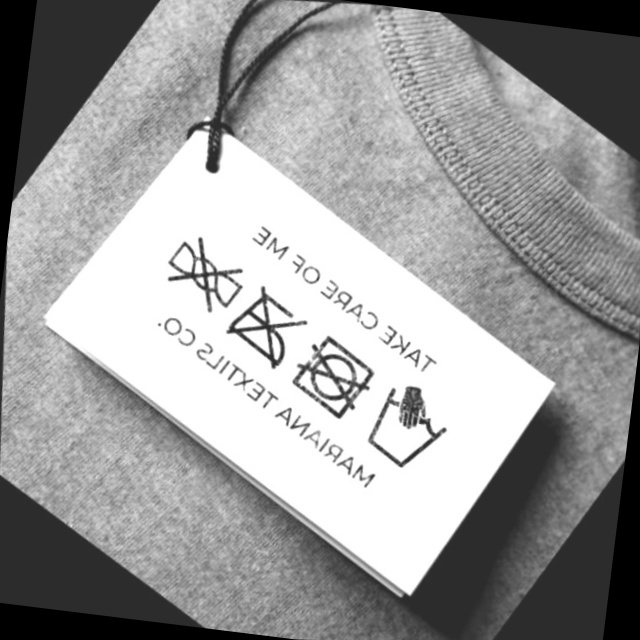DN_iron: (223, 280, 311, 374)
DN_tumble_dry: (290, 328, 384, 422)
DN_wring: (159, 228, 251, 316)
hand_wash: (359, 375, 457, 481)
